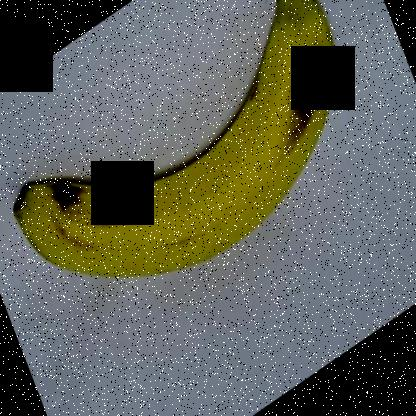freshripe: (16, 1, 350, 282)
